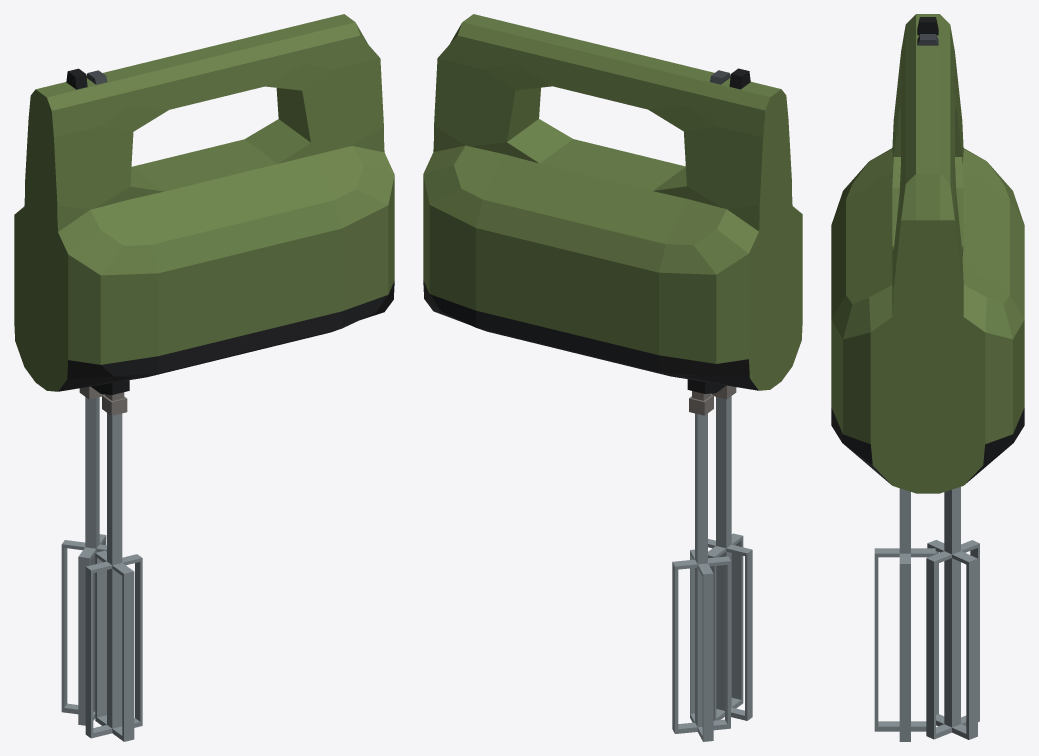
File: electricmixers_01_B.gltf
3 views of the same model, side by side, from view 1: azimuth 30°, elevation 25°; view 2: azimuth 150°, elevation 25°; view 3: azimuth 270°, elevation 25° (orthographic). The views are drawn at different scales.
Visible parts, largest first — view 1: electricmixers_01_B, mixerdevice_01_B, mixerdevice_02_B; view 2: electricmixers_01_B, mixerdevice_02_B, mixerdevice_01_B; view 3: electricmixers_01_B, mixerdevice_02_B, mixerdevice_01_B, buttonforelectricmixers_02_B.
Boxes of the visible parts, x1,y1,x2,y2 form: electricmixers_01_B: (14, 14, 394, 415); mixerdevice_01_B: (85, 413, 142, 741); mixerdevice_02_B: (61, 397, 106, 725); electricmixers_01_B: (423, 14, 802, 415); mixerdevice_02_B: (672, 413, 730, 741); mixerdevice_01_B: (708, 396, 752, 720); electricmixers_01_B: (831, 14, 1024, 493); mixerdevice_02_B: (926, 487, 979, 739); mixerdevice_01_B: (874, 488, 935, 741); buttonforelectricmixers_02_B: (917, 17, 938, 35).
Size of the model in its own units: 0.2861 by 0.5494 by 0.1384.
1 material, 1 textured.
